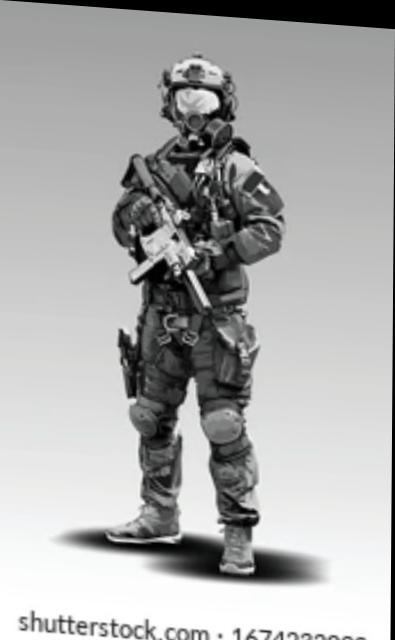other: (110, 53, 278, 564)
